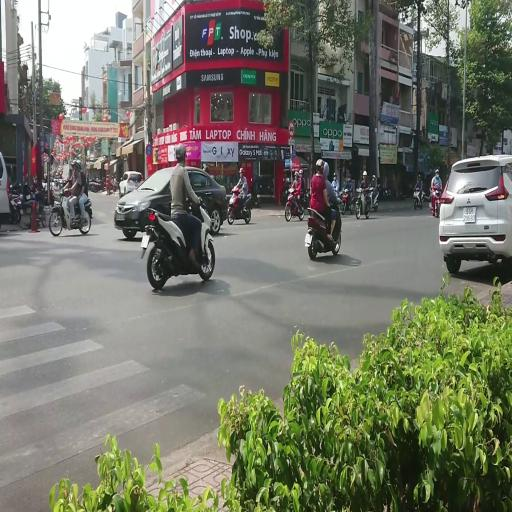bikes: (140, 197, 215, 290), (304, 194, 342, 260), (48, 185, 92, 236), (8, 180, 46, 228), (227, 186, 252, 224), (8, 180, 24, 224), (284, 188, 305, 221), (355, 184, 373, 218), (88, 174, 118, 194), (247, 177, 260, 207), (340, 187, 354, 214), (429, 186, 441, 217), (369, 175, 379, 210), (281, 177, 291, 204), (413, 186, 424, 210), (89, 176, 105, 192), (337, 189, 347, 214), (303, 188, 310, 209), (110, 174, 118, 192)
helmet: (175, 144, 186, 160), (315, 158, 324, 173), (70, 159, 82, 170), (323, 162, 329, 178), (70, 160, 77, 171), (76, 160, 82, 169), (233, 186, 238, 192), (239, 167, 243, 174), (294, 171, 298, 178), (299, 169, 303, 176), (347, 175, 351, 182), (435, 168, 439, 174), (286, 180, 290, 186), (251, 177, 255, 183), (363, 171, 367, 176), (435, 172, 439, 177), (333, 173, 336, 179), (372, 174, 375, 180), (418, 174, 420, 180)
